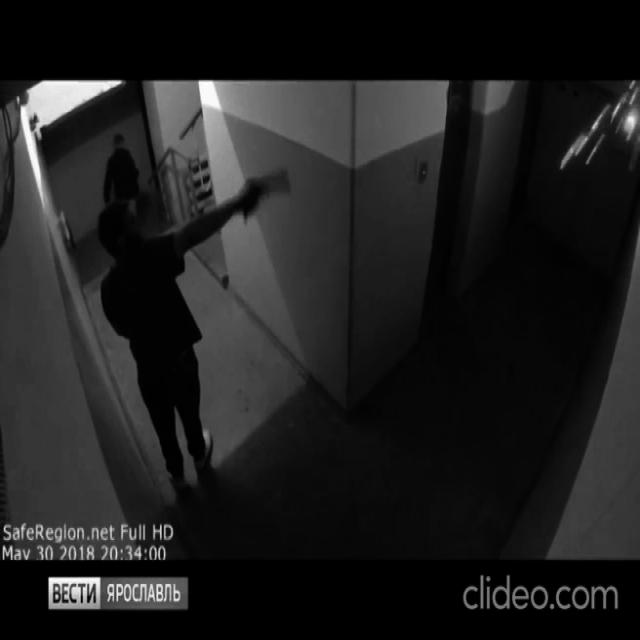gun: (240, 166, 294, 223)
person: (102, 130, 144, 247)
person with a gun: (97, 167, 296, 494)
